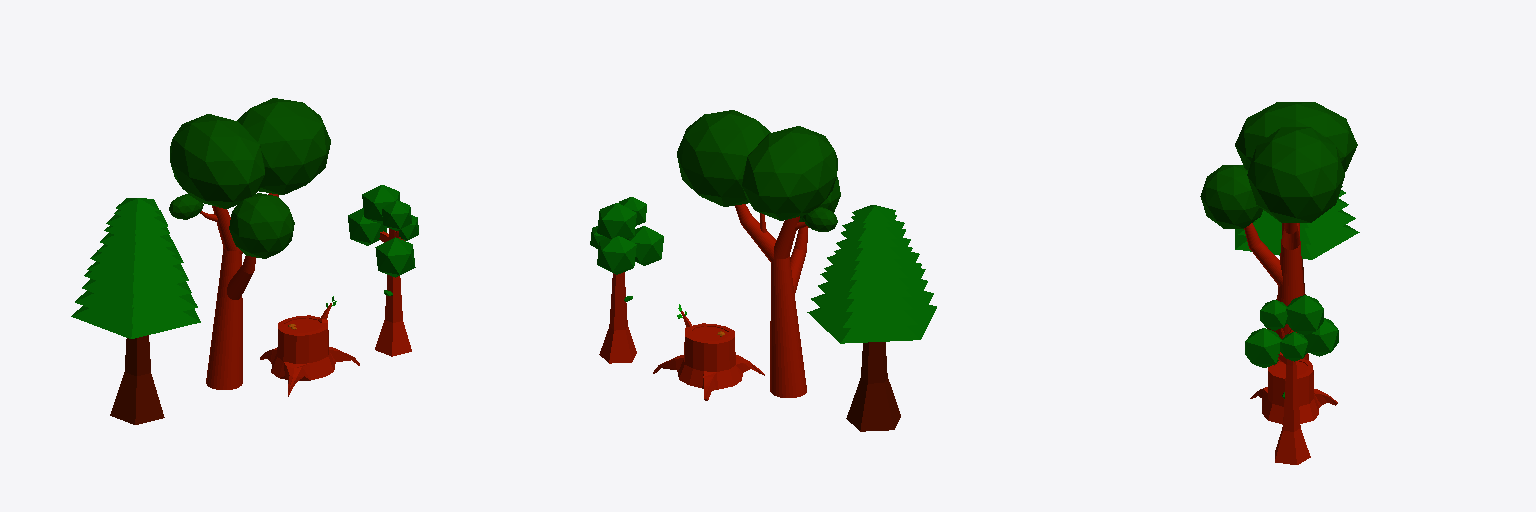
Rendered from alberi_low_poly.obj.
3 views of the same model, side by side, from view 1: azimuth 30°, elevation 25°; view 2: azimuth 150°, elevation 25°; view 3: azimuth 270°, elevation 25° (orthographic).
Parts seen in each view (by area): view 1: daun_Cube.001, Icosphere, Icosphere.001, Cylinder, Cube, Icosphere.002, pohon_Cube.002, pohon.001_Cube.003, Icosphere.005, Icosphere.006, Icosphere.004, Icosphere.007 (+1 smaller); view 2: daun_Cube.001, Icosphere, Cylinder, Icosphere.001, Cube, pohon_Cube.002, pohon.001_Cube.003, Icosphere.004, Icosphere.006, Icosphere.005, Icosphere.003; view 3: Icosphere.001, Icosphere, daun_Cube.001, Icosphere.002, Cylinder, Cube, pohon.001_Cube.003, Icosphere.006, Icosphere.005, Icosphere.004, Icosphere.007, Icosphere.008.
Part boxes in pixels (x1,y1,x2,y2): daun_Cube.001: (71, 198, 200, 338); Icosphere: (170, 114, 264, 208); Icosphere.001: (237, 98, 330, 194); Cylinder: (200, 193, 278, 389); Cube: (260, 296, 359, 396); Icosphere.002: (229, 193, 294, 258); pohon_Cube.002: (110, 335, 164, 424); pohon.001_Cube.003: (375, 228, 411, 356); Icosphere.005: (375, 237, 415, 277); Icosphere.006: (362, 185, 399, 223); Icosphere.004: (348, 208, 386, 245); Icosphere.007: (382, 200, 411, 230); daun_Cube.001: (807, 205, 936, 343); Icosphere: (742, 126, 837, 220); Cylinder: (735, 204, 808, 397); Icosphere.001: (677, 110, 770, 206); Cube: (653, 304, 764, 400); pohon_Cube.002: (846, 342, 900, 431); pohon.001_Cube.003: (599, 272, 636, 363); Icosphere.004: (597, 236, 636, 274); Icosphere.006: (597, 203, 636, 238); Icosphere.005: (627, 226, 663, 265); Icosphere.003: (803, 207, 837, 231); Icosphere.001: (1247, 127, 1344, 222); Icosphere: (1235, 102, 1357, 171); daun_Cube.001: (1235, 186, 1359, 259); Icosphere.002: (1200, 165, 1262, 228); Cylinder: (1244, 223, 1308, 359); Cube: (1250, 359, 1337, 424); pohon.001_Cube.003: (1275, 328, 1310, 464); Icosphere.006: (1286, 295, 1323, 334); Icosphere.005: (1245, 328, 1281, 367); Icosphere.004: (1304, 318, 1338, 356); Icosphere.007: (1260, 300, 1287, 330); Icosphere.008: (1280, 332, 1308, 361).
Size of the model in its own units: 9.04 by 7.19 by 3.7.